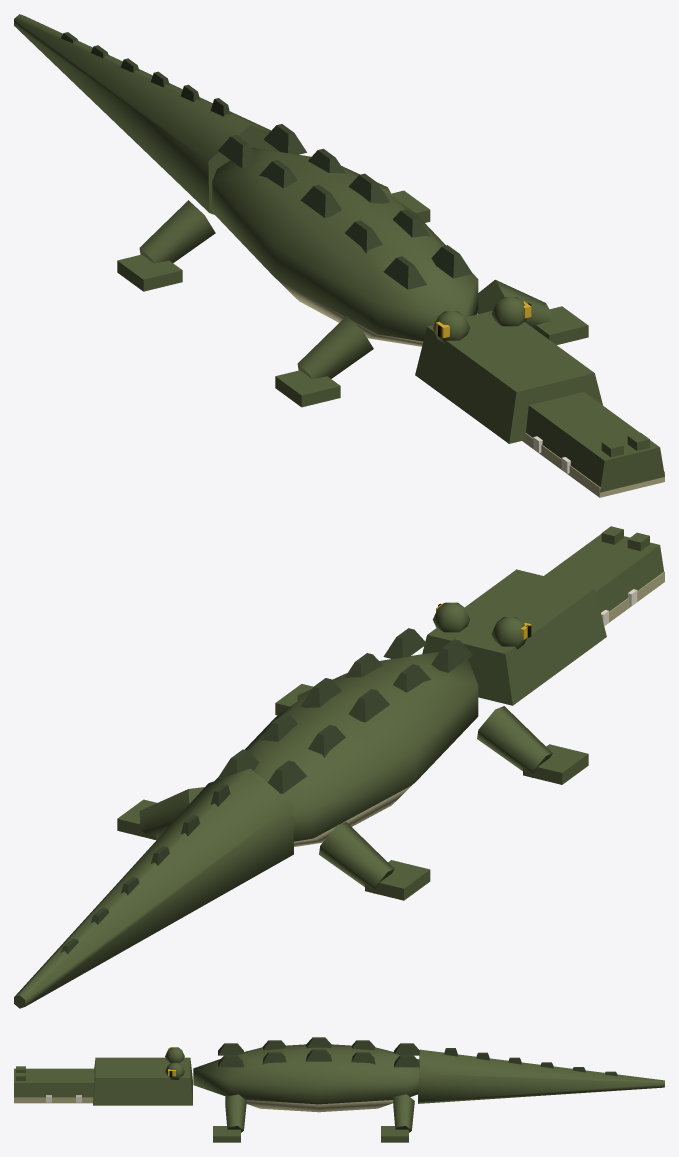
File: buaya.glb
3 renders of one model, top to bottom at view 1: azimuth 30°, elevation 25°; view 2: azimuth 150°, elevation 25°; view 3: azimuth 270°, elevation 25°, orthographic. The views are drawn at different scales.
Visible parts, largest first — view 1: body, tail, leg_fr, leg_rr, leg_fl; view 2: body, tail, leg_fr, leg_rr, leg_rl; view 3: body, tail, leg_fl, leg_rl.
Boxes of the visible parts, x1,y1,x2,y2 form: body: (212,124,664,497); tail: (14,14,279,214); leg_fr: (275,316,373,407); leg_rr: (117,200,215,291); leg_fl: (477,279,588,344); body: (215,526,664,846); tail: (14,768,293,1008); leg_fr: (477,706,588,784); leg_rr: (319,822,430,900); leg_rl: (117,787,204,839); body: (14,1037,419,1112); tail: (418,1048,664,1103); leg_fl: (213,1094,246,1142); leg_rl: (381,1094,414,1142).
Bounding box in the file's own units: 0.88 × 0.3473 × 3.26.
Materials: 1 (1 with a texture image).
